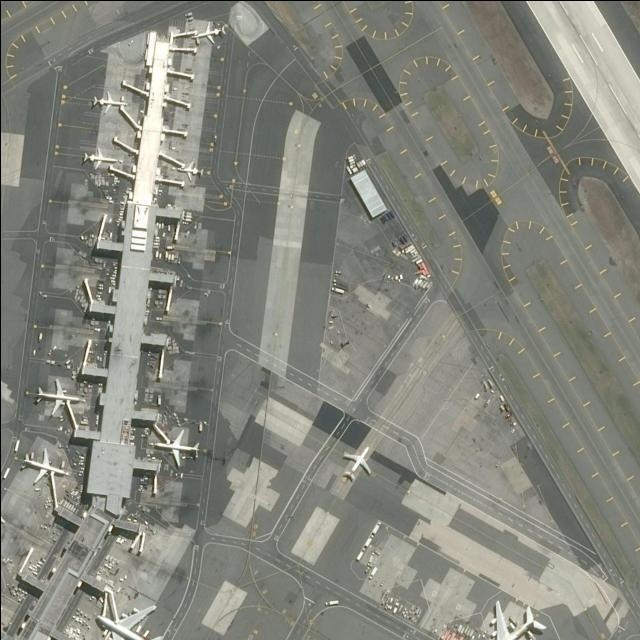Aircraft: (87, 601, 162, 640), (479, 600, 546, 640), (149, 428, 200, 468), (33, 377, 81, 419), (18, 448, 68, 486), (339, 446, 373, 482), (83, 145, 114, 171), (92, 92, 127, 114), (190, 23, 222, 45), (175, 160, 203, 182)
